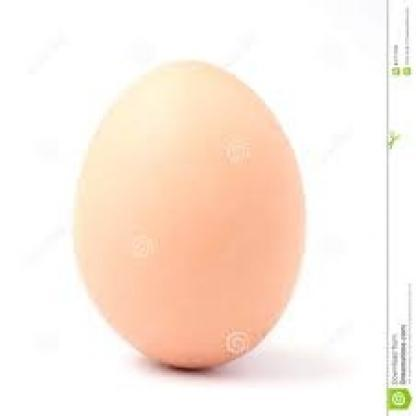egg: (72, 62, 309, 372)
